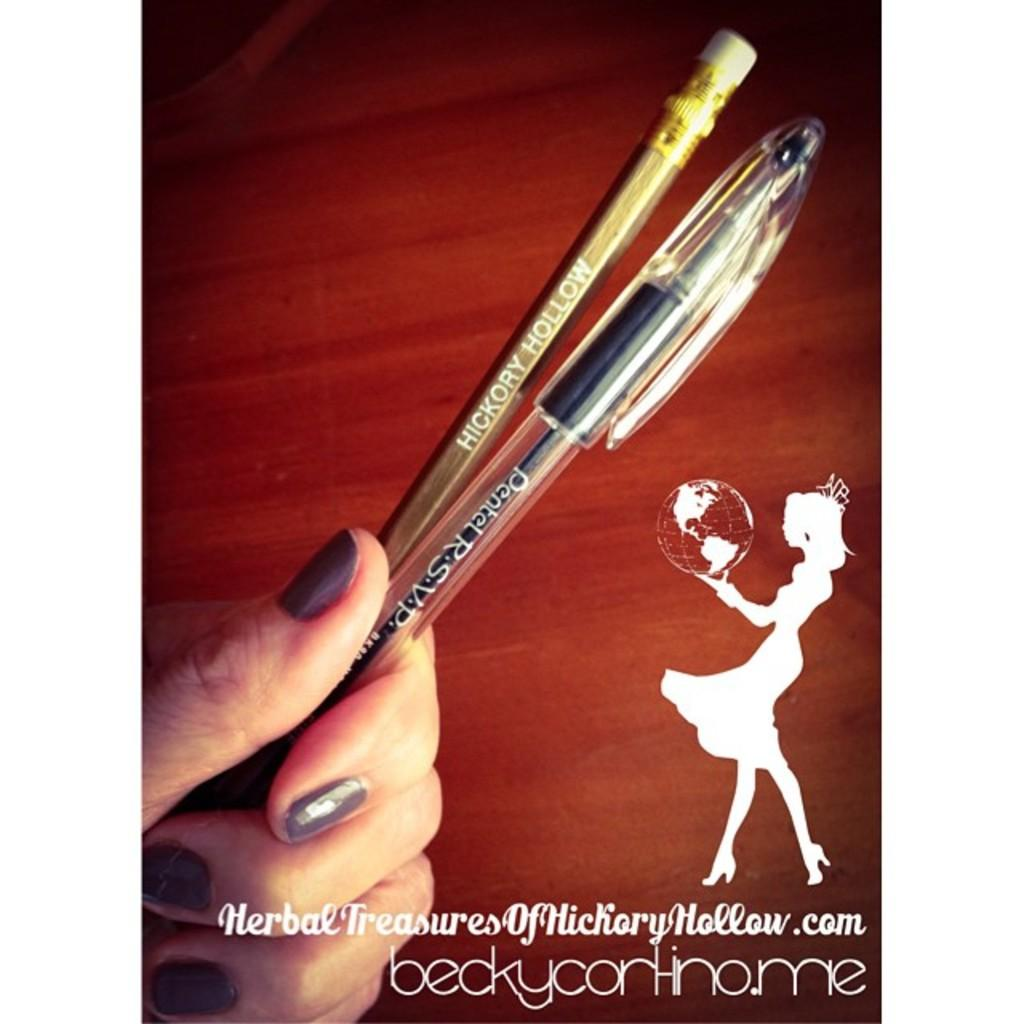pen: (285, 112, 811, 750), (339, 27, 763, 677)
